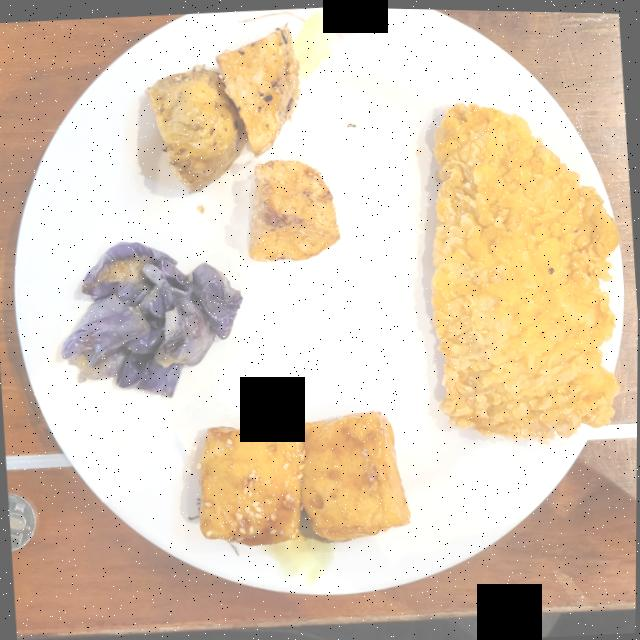coin: (8, 491, 37, 549)
creamy tofu: (200, 408, 410, 543)
fried chicken cutlet: (431, 100, 619, 438)
fried potato: (146, 24, 300, 191), (248, 157, 340, 258)
